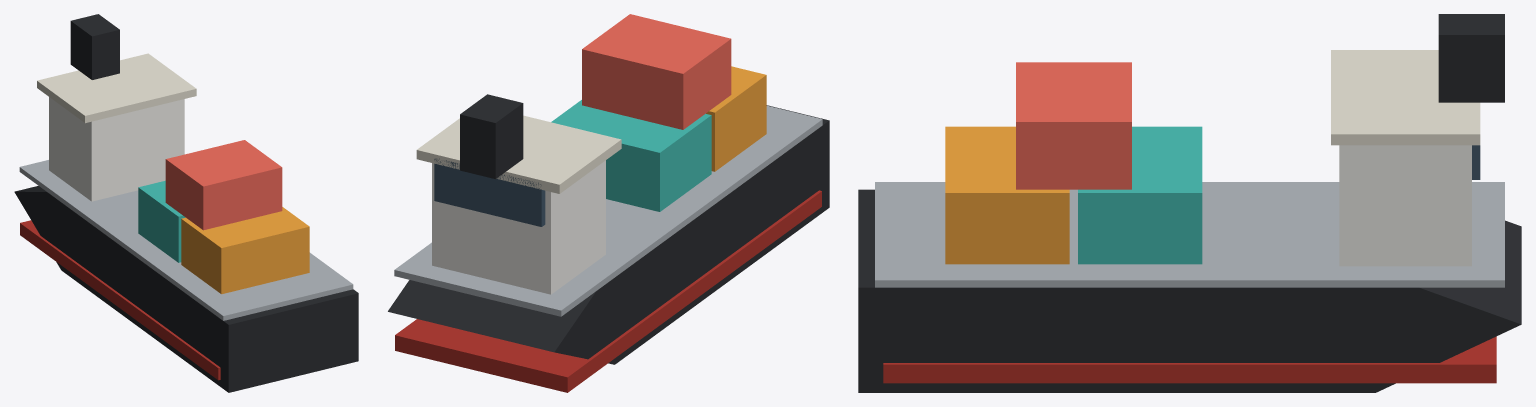
File: marine.cargo-ship.glb
3 renders of one model, left to right at view 1: azimuth 30°, elevation 25°; view 2: azimuth 150°, elevation 25°; view 3: azimuth 270°, elevation 25°, orthographic. The views are drawn at different scales.
Parts seen in each view (by area): view 1: marine.cargo-ship; view 2: marine.cargo-ship; view 3: marine.cargo-ship.
Part boxes in pixels (x1=…): marine.cargo-ship: x1=14, y1=14, x2=358, y2=392; marine.cargo-ship: x1=388, y1=14, x2=829, y2=392; marine.cargo-ship: x1=858, y1=14, x2=1521, y2=392.
Bounding box in the file's own units: 2.9 × 4.25 × 8.
